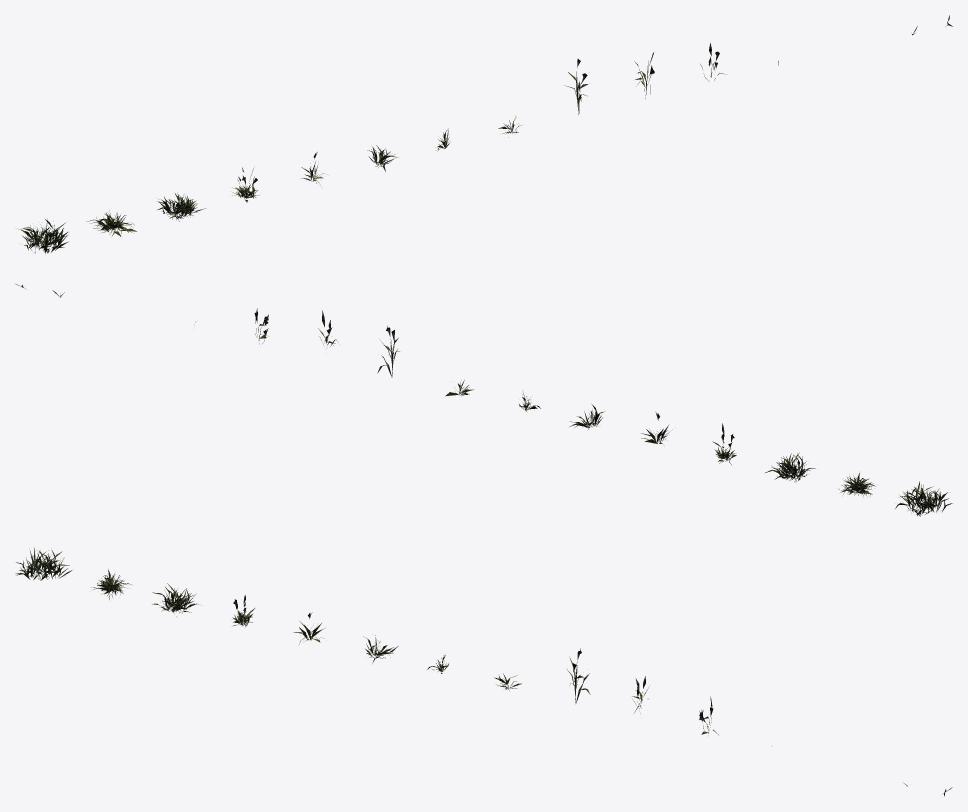
File: grass_medium_01.glb
3 views of the same model, one above another, from view 1: azimuth 30°, elevation 25°; view 2: azimuth 150°, elevation 25°; view 3: azimuth 330°, elevation 25° (orthographic).
Visible parts, largest first — view 1: grass_medium_01_small_a_LOD0; view 2: grass_medium_01_small_a_LOD0; view 3: grass_medium_01_small_a_LOD0.
Boxes of the visible parts, box(x1,y1,x2,y2) form: grass_medium_01_small_a_LOD0: box(18, 15, 952, 253); grass_medium_01_small_a_LOD0: box(16, 284, 952, 516); grass_medium_01_small_a_LOD0: box(15, 548, 952, 796).
Size of the model in its own units: 5.6 by 0.3384 by 0.3264.
Materials: 1 (1 with a texture image).
